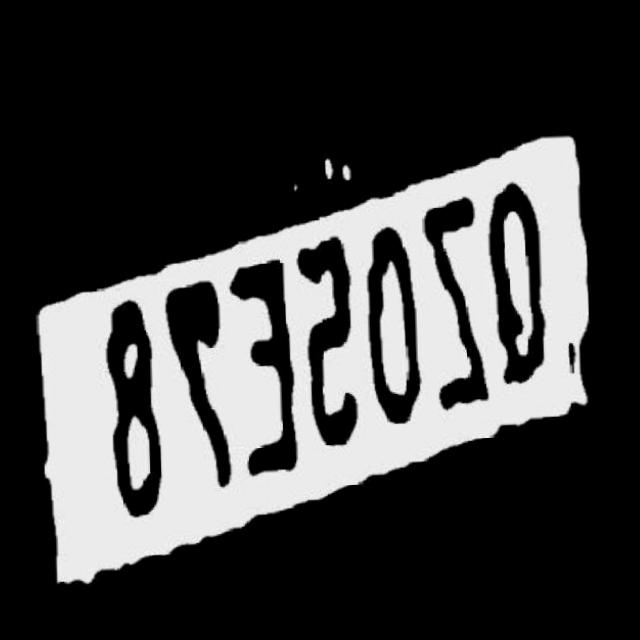5: (290, 232, 366, 454)
7: (158, 280, 234, 506)
8: (89, 296, 159, 532)
e: (225, 252, 300, 495)
o: (365, 223, 420, 443)
q: (483, 180, 547, 392)
z: (410, 194, 491, 427)
